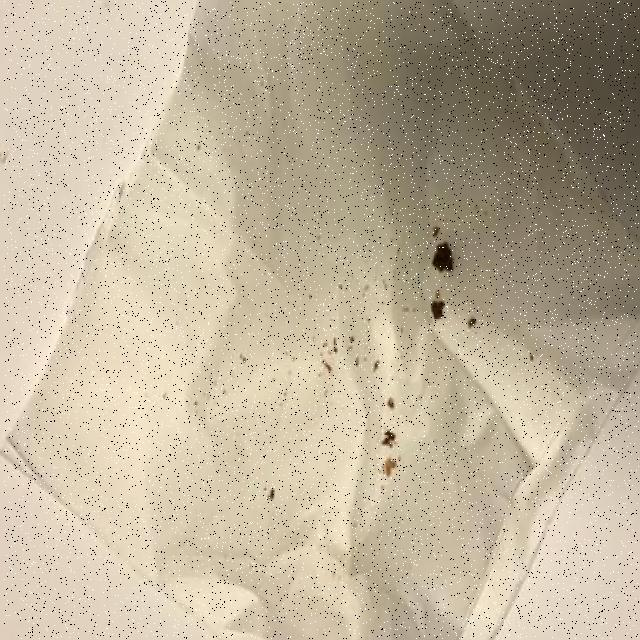paper: (4, 1, 640, 638)
